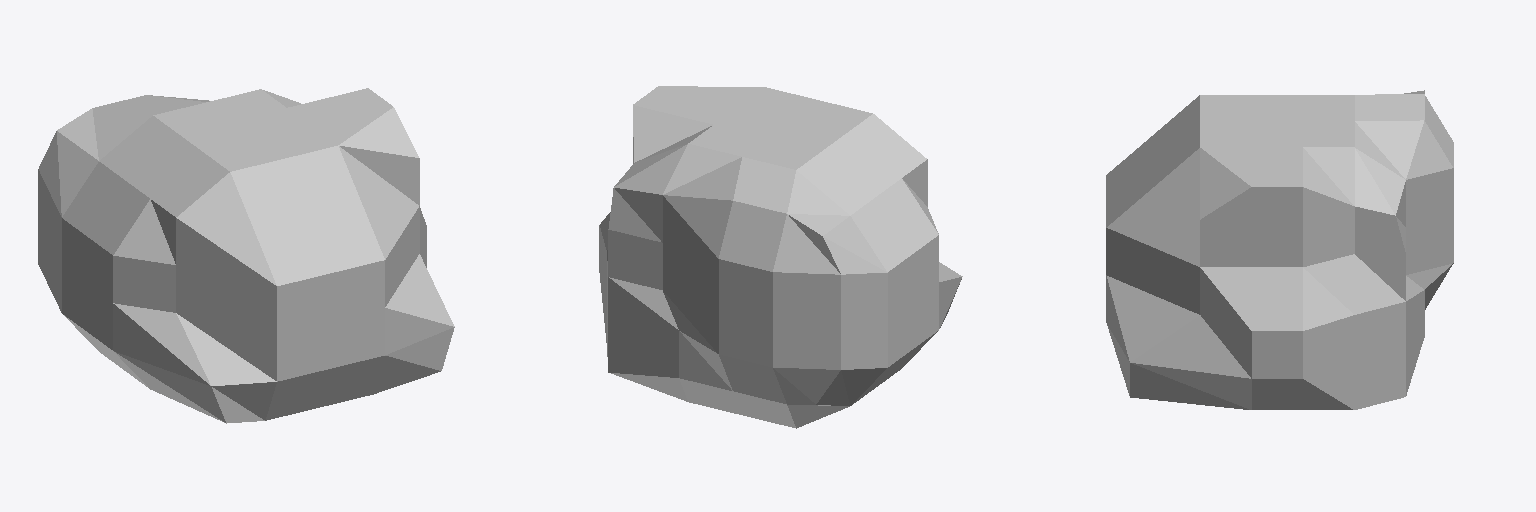
The model's file is large_round_rock.obj.
3 renders of one model, left to right at view 1: azimuth 30°, elevation 25°; view 2: azimuth 150°, elevation 25°; view 3: azimuth 270°, elevation 25°, orthographic.
Visible parts, largest first — view 1: Cube; view 2: Cube; view 3: Cube.
Boxes of the visible parts, box(x1,y1,x2,y2) form: Cube: box(38, 88, 454, 423); Cube: box(599, 86, 962, 428); Cube: box(1106, 90, 1453, 409).
Bounding box in the file's own units: 20.92 × 16.47 × 20.03.